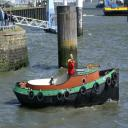tugboat: (12, 52, 121, 113)
